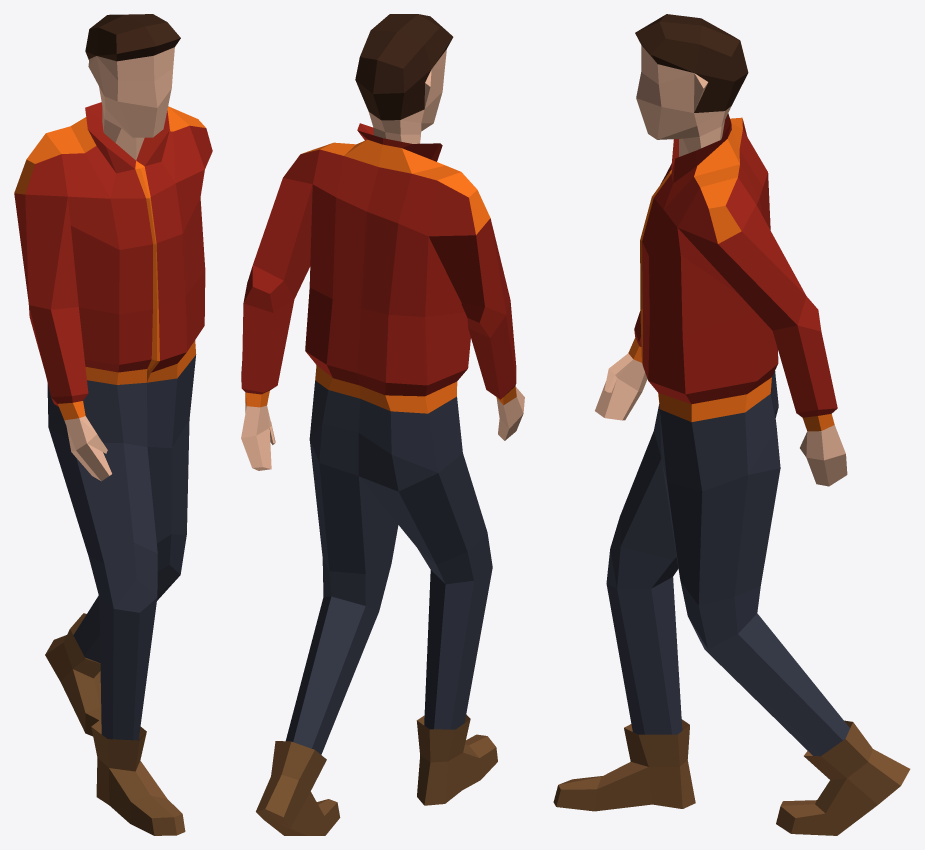
Rendered from AutumnManC.004.glb.
3 views of the same model, side by side, from view 1: azimuth 30°, elevation 25°; view 2: azimuth 150°, elevation 25°; view 3: azimuth 270°, elevation 25° (orthographic). The views are drawn at different scales.
Parts seen in each view (by area): view 1: AutumnManC.004; view 2: AutumnManC.004; view 3: AutumnManC.004.
Boxes of the visible parts, x1=… form: AutumnManC.004: x1=14, y1=14, x2=212, y2=835; AutumnManC.004: x1=241, y1=14, x2=524, y2=835; AutumnManC.004: x1=553, y1=14, x2=910, y2=835.
Size of the model in its own units: 0.482 by 1.73 by 0.7044.
Materials: 1 (1 with a texture image).
